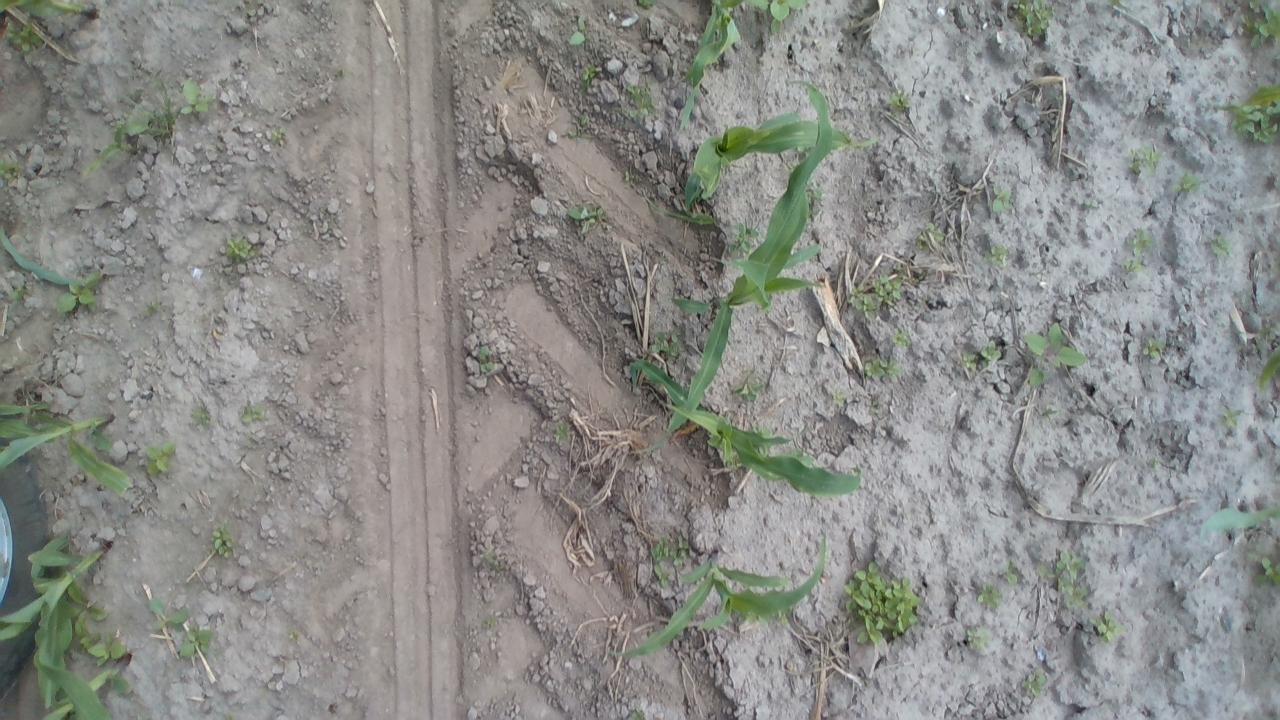Maize: (672, 84, 838, 436), (626, 356, 865, 496), (619, 541, 830, 666), (682, 112, 852, 241), (0, 532, 115, 719), (0, 408, 136, 494), (675, 2, 743, 132), (22, 653, 134, 718), (1, 225, 103, 293), (1, 0, 100, 66), (1202, 502, 1278, 541), (1217, 86, 1280, 108), (1260, 348, 1280, 390)
Weeds: (839, 564, 924, 644), (86, 101, 172, 165), (1018, 319, 1083, 386), (1004, 0, 1057, 42), (1048, 548, 1086, 606), (1237, 4, 1278, 52), (5, 15, 46, 57), (220, 229, 260, 272), (59, 277, 101, 315), (138, 438, 178, 476), (78, 626, 122, 660), (70, 588, 108, 626), (146, 595, 187, 629), (179, 78, 211, 121), (1240, 115, 1280, 148), (643, 537, 690, 564), (562, 202, 608, 229), (868, 268, 906, 300), (1116, 238, 1148, 274), (754, 0, 811, 20), (732, 375, 768, 406), (181, 626, 213, 660), (1090, 604, 1120, 640), (968, 338, 1004, 368), (652, 326, 684, 358), (868, 350, 901, 380), (973, 581, 1003, 613), (623, 79, 654, 109), (886, 85, 916, 115), (914, 222, 946, 250), (1020, 668, 1048, 698), (1132, 331, 1162, 359), (562, 17, 590, 47), (1258, 552, 1280, 590), (991, 172, 1010, 214), (237, 402, 263, 428), (1134, 148, 1160, 174), (1172, 171, 1200, 193), (211, 532, 233, 560), (190, 404, 212, 431), (1221, 404, 1243, 431), (650, 564, 674, 587), (1, 158, 20, 187), (1205, 229, 1225, 256), (1000, 564, 1024, 585), (580, 63, 598, 87), (890, 331, 914, 348), (984, 241, 1004, 260), (966, 626, 984, 647), (270, 126, 288, 146)
